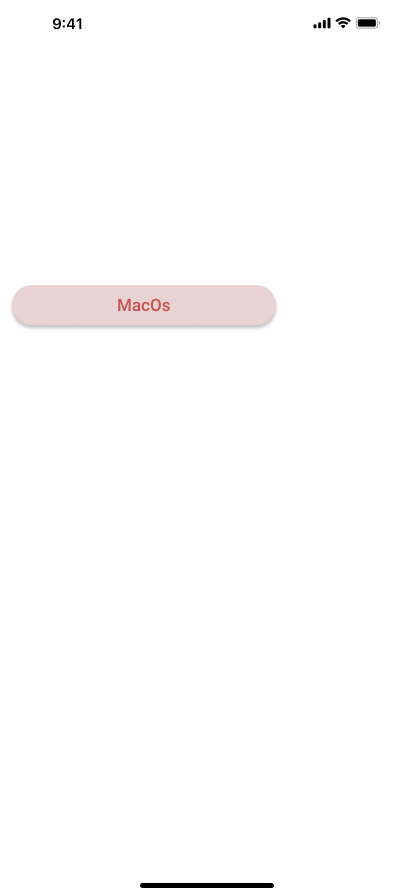Buttons: (8, 284, 284, 332)
Home Indicator: (0, 862, 414, 896)
Status Bar: (0, 0, 414, 44)
